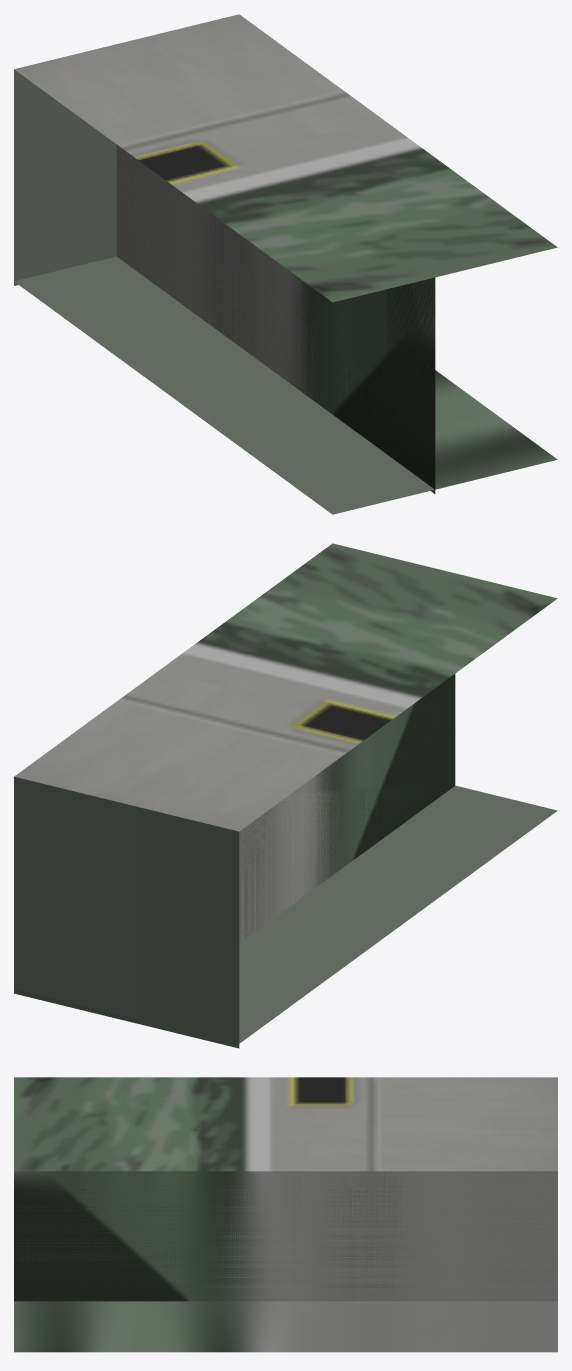
The model's file is section-6.obj.
3 views of the same model, one above another, from view 1: azimuth 30°, elevation 25°; view 2: azimuth 150°, elevation 25°; view 3: azimuth 270°, elevation 25° (orthographic). The views are drawn at different scales.
Bounding box in the file's own units: 1 × 0.92 × 2.45.
Materials: 1 (1 with a texture image).
